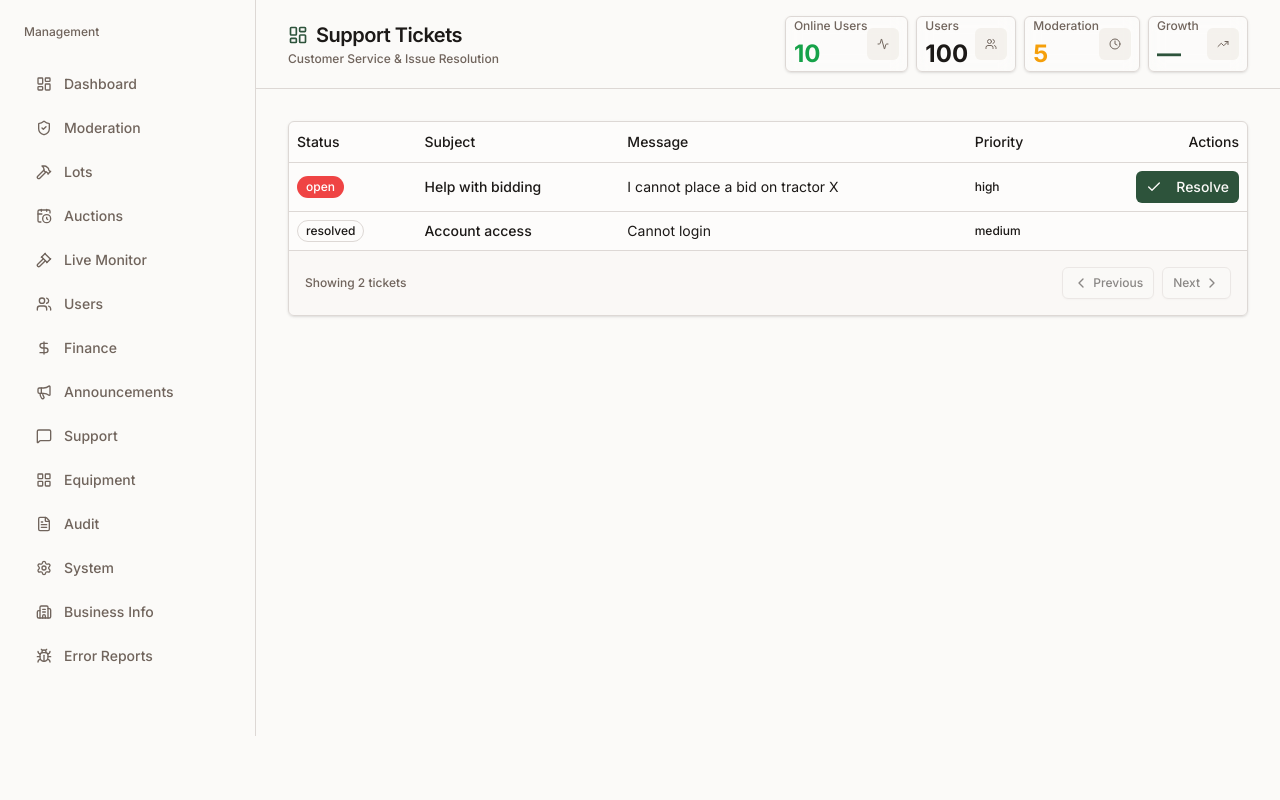
Test case: AdminSupport Page › validates resolution message
Click the button "Resolve".
click(1188, 186)  # box [1136,170,1239,202]
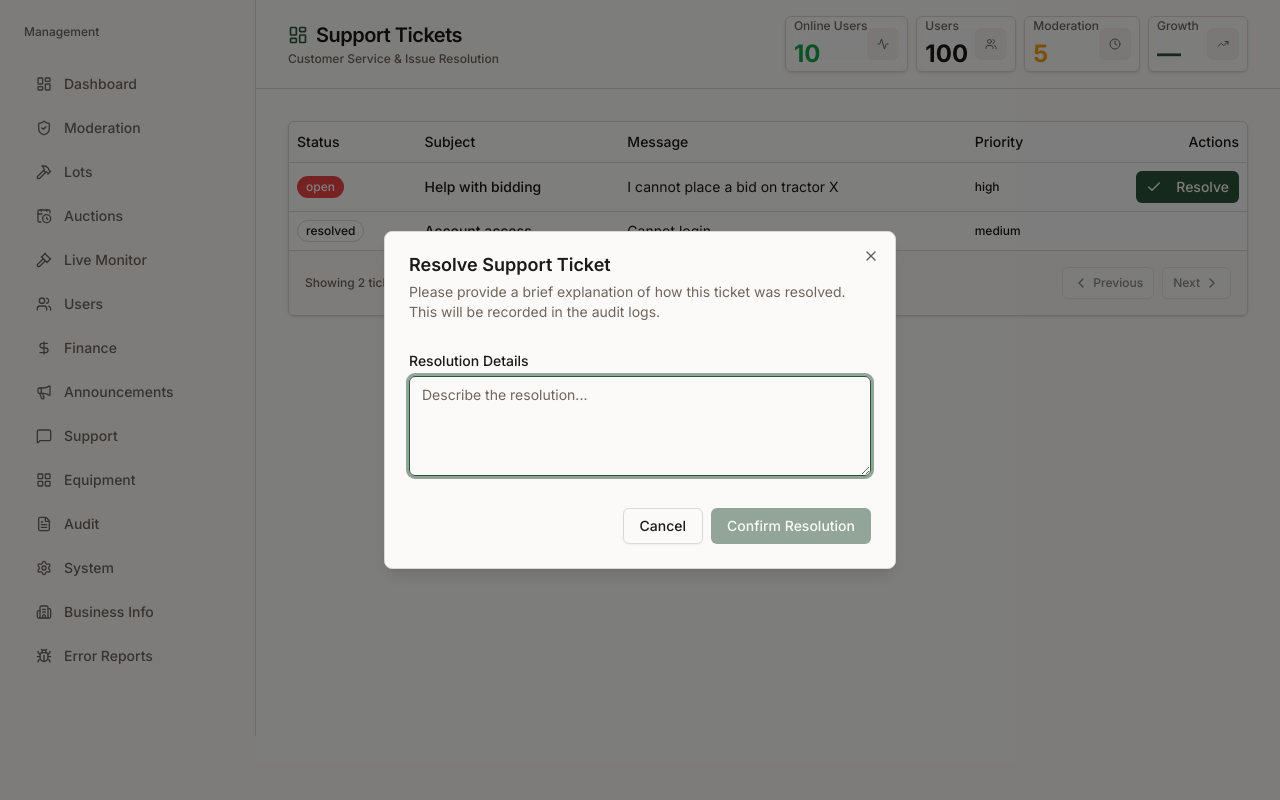
expect the button "Confirm Resolution" is disabled: met, box [711,508,871,544]
